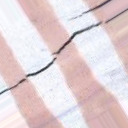crackTip: (1, 1, 128, 97)
